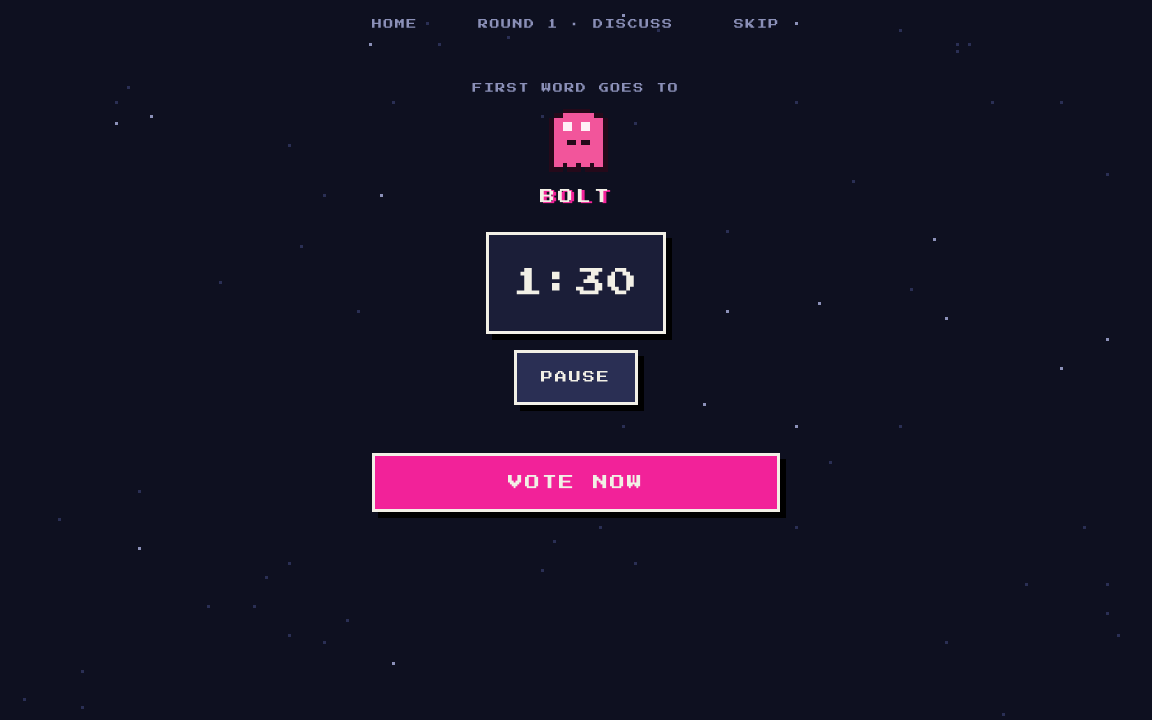
Test case: screen rendering › discussion shows a running timer that can be paused
Expected: the text "1:30" is shown, top-left (513, 268), bottom-right (639, 298)
Click the button "Pause" at (576, 377), box top-left (514, 350), bottom-right (638, 405)
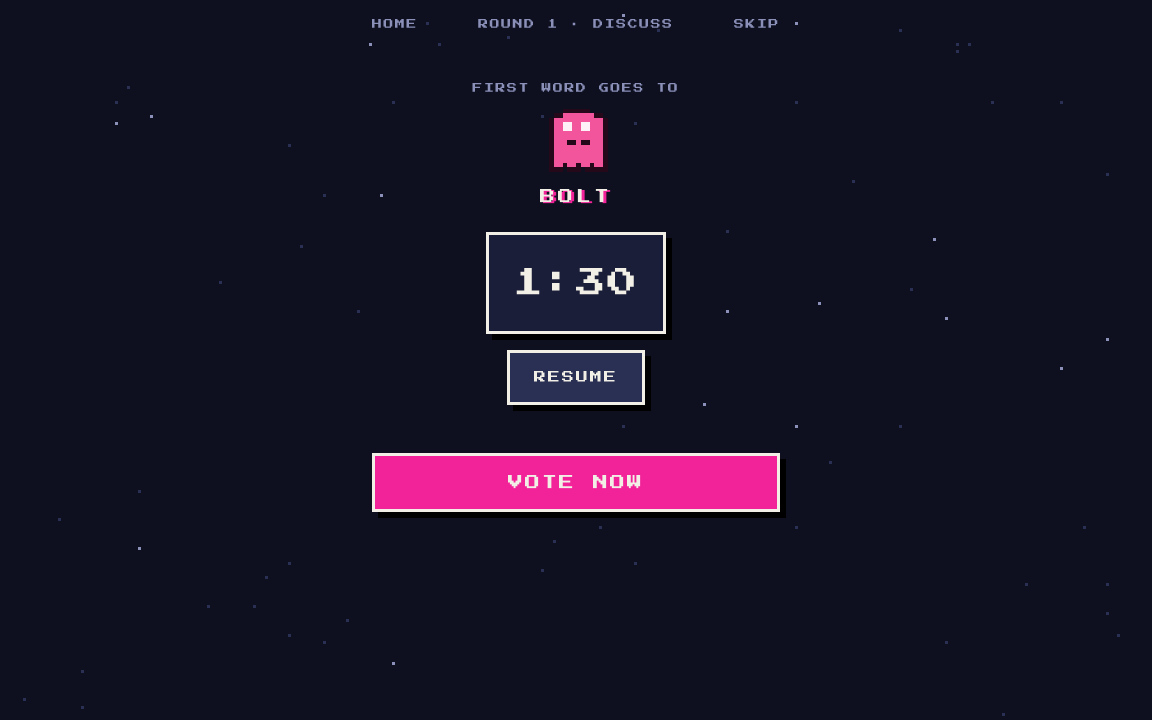
Result: the button "Resume" is shown at top-left (507, 350), bottom-right (645, 405)
